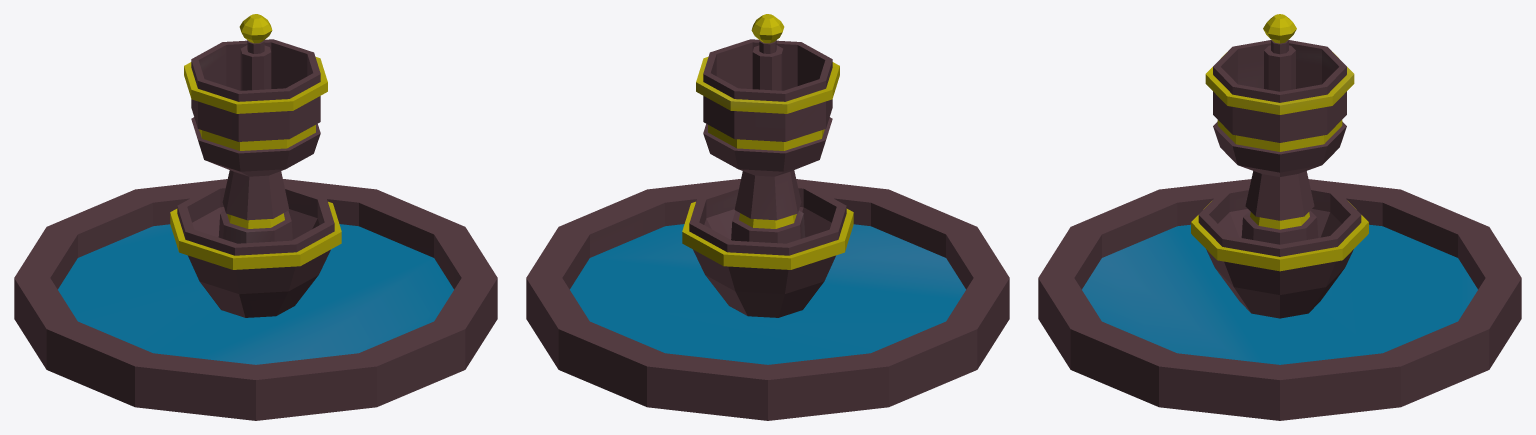
File: ChafarizLOD.fbx
3 renders of one model, left to right at view 1: azimuth 30°, elevation 25°; view 2: azimuth 150°, elevation 25°; view 3: azimuth 270°, elevation 25°, orthographic.
Visible parts, largest first — view 1: Chafariz_LOD0; view 2: Chafariz_LOD0; view 3: Chafariz_LOD0.
Part boxes in pixels (box(x1,y1,x2,y2)): Chafariz_LOD0: box(14, 14, 497, 420); Chafariz_LOD0: box(526, 14, 1009, 420); Chafariz_LOD0: box(1038, 14, 1521, 420).
Size of what is drawn, in the model's own units: 402 by 277 by 402.
